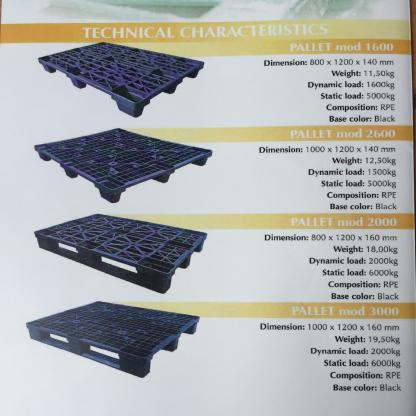BoxFace: (27, 318, 199, 382)
